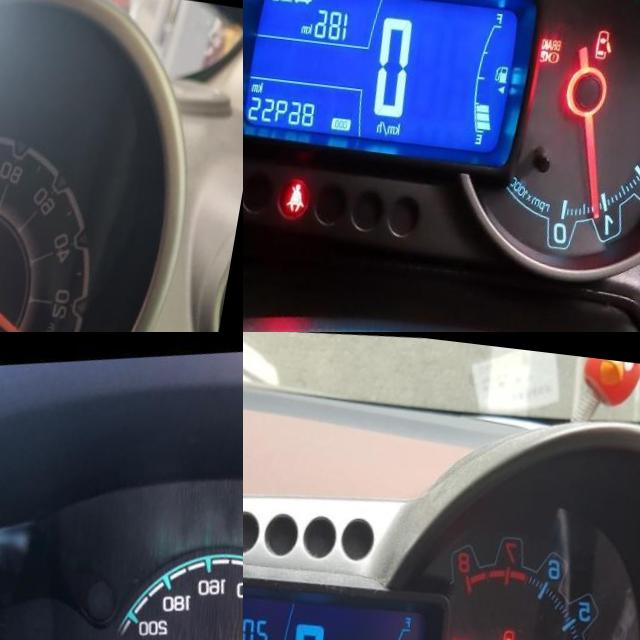Doors: (605, 15, 626, 48), (510, 615, 533, 640)
